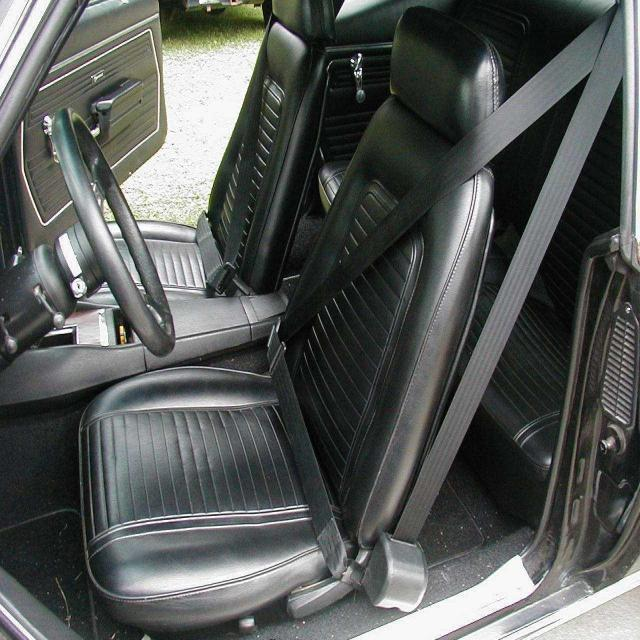seatbelt: (260, 37, 624, 504), (184, 43, 292, 298)
